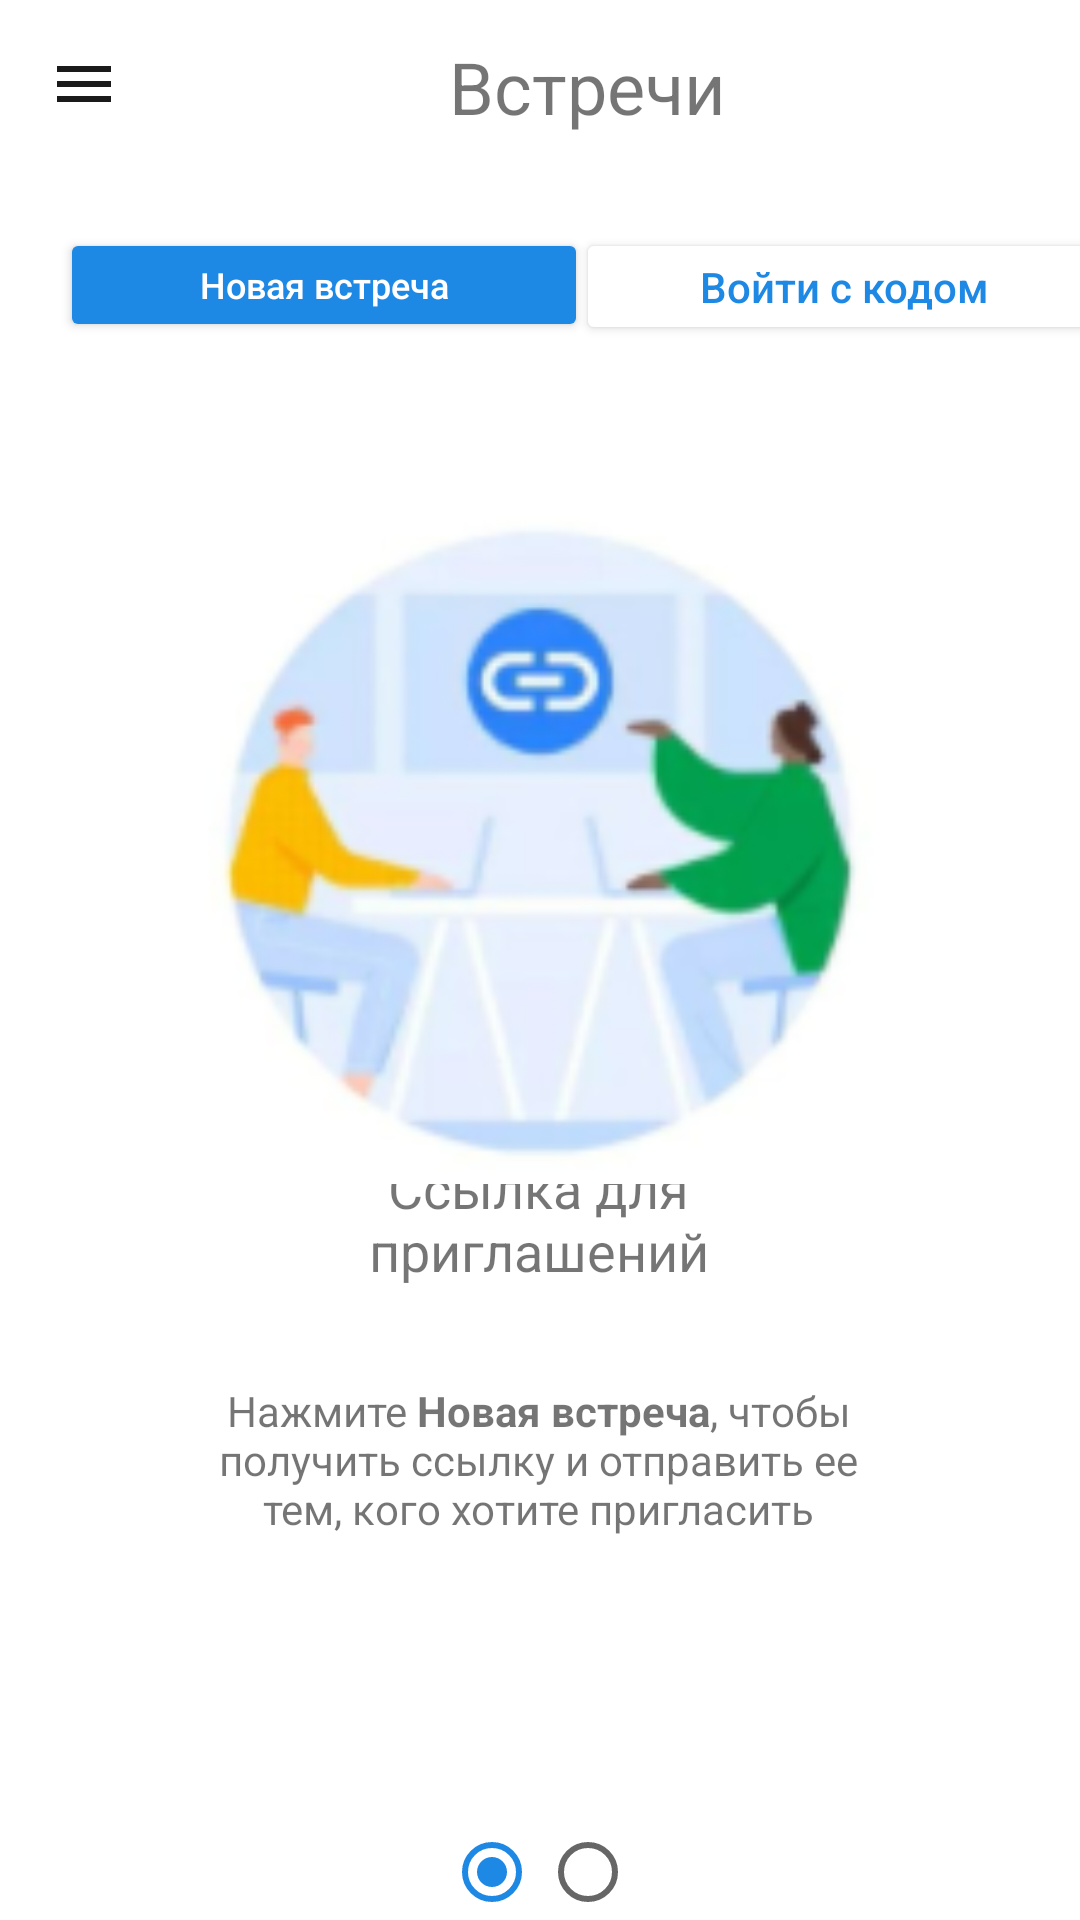

Point at icon controls on the screen. Image size 1080w x 1920h, points as (x=x, y=y).
menu: (x=84, y=84)
